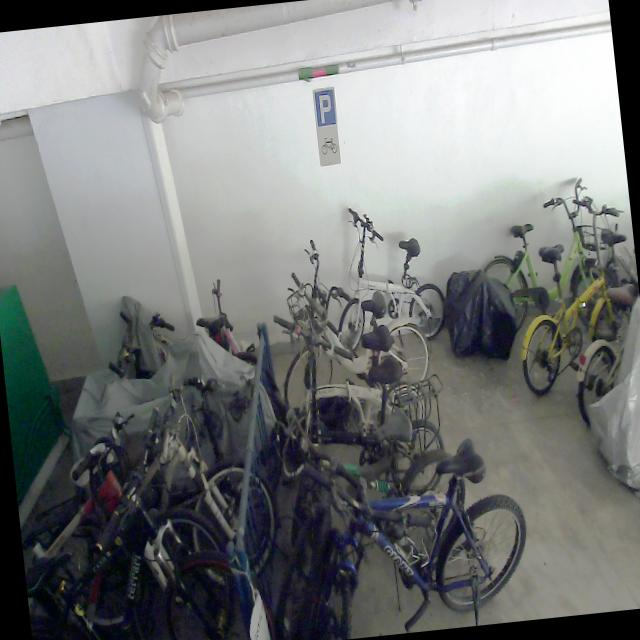bike: (32, 367, 282, 614), (255, 430, 534, 640), (9, 399, 241, 640), (276, 381, 474, 566), (266, 299, 432, 478), (268, 226, 432, 407), (504, 189, 640, 395), (470, 172, 622, 353), (325, 196, 450, 354)
